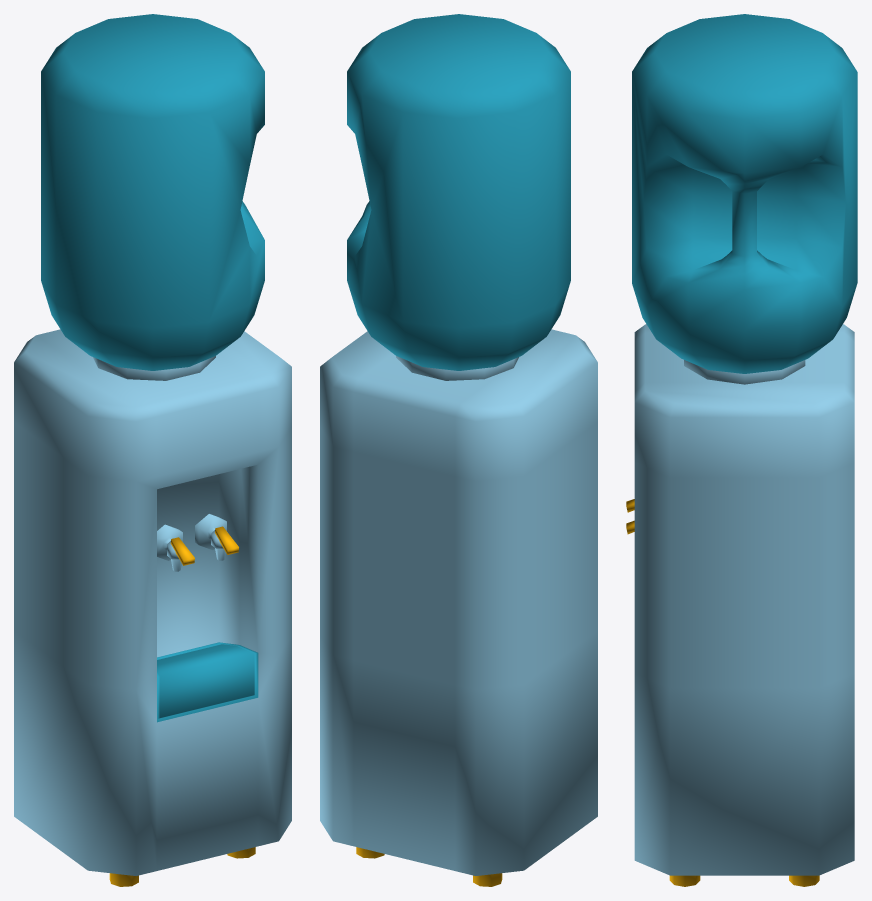
File: Water_Fountain.FBX
The picture shows the model from 3 angles, left to right: view 1: azimuth 30°, elevation 25°; view 2: azimuth 150°, elevation 25°; view 3: azimuth 270°, elevation 25°; orthographic projection.
Visible parts, largest first — view 1: Water_Fountain; view 2: Water_Fountain; view 3: Water_Fountain.
Boxes of the visible parts, left/top/right/bottom form: Water_Fountain: left=14, top=14, right=291, bottom=886; Water_Fountain: left=320, top=14, right=597, bottom=886; Water_Fountain: left=626, top=14, right=857, bottom=886.
Size of the model in its own units: 0.5608 by 2.08 by 0.5455.
